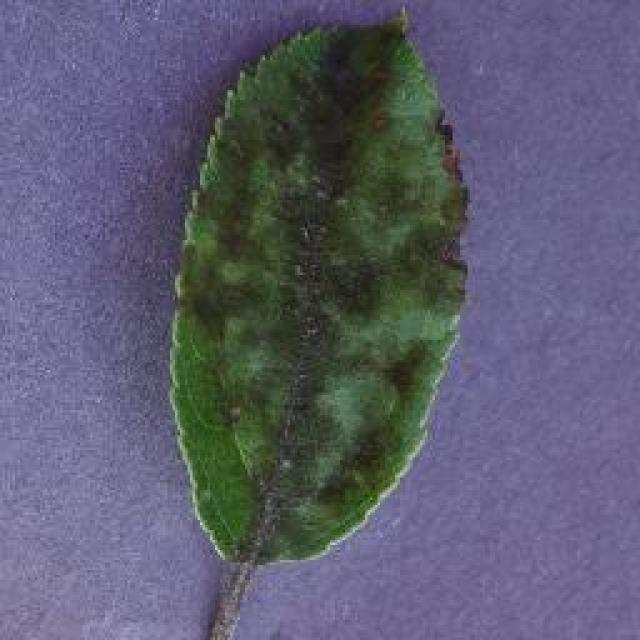apple scab disease: (165, 2, 473, 568)
